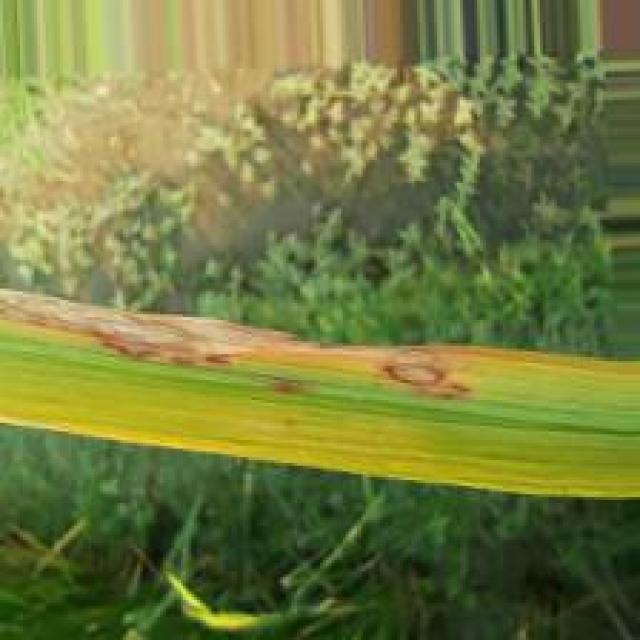Leaf_Blast: (2, 289, 472, 402)
